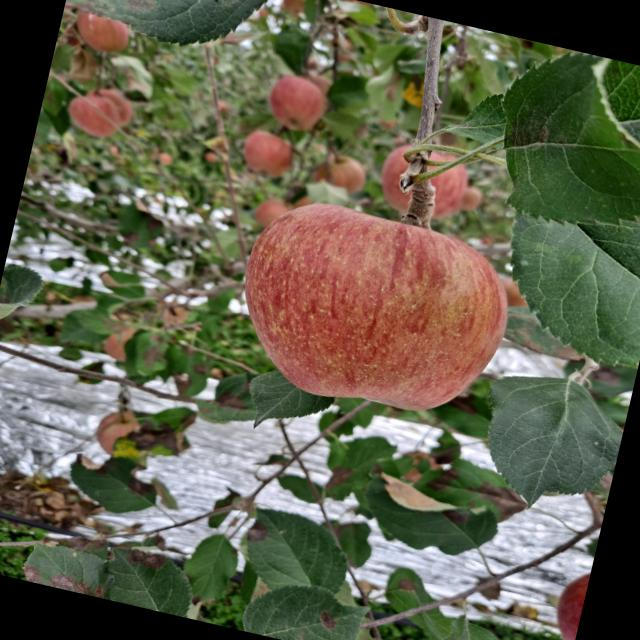fresh: (211, 183, 533, 440)
